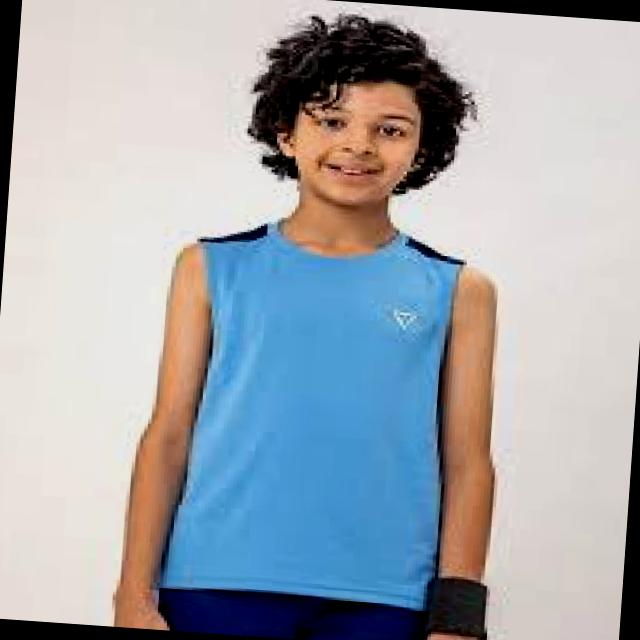face: (277, 81, 424, 204)
lower-wear: (159, 588, 425, 639)
top-wear: (157, 220, 463, 611)
